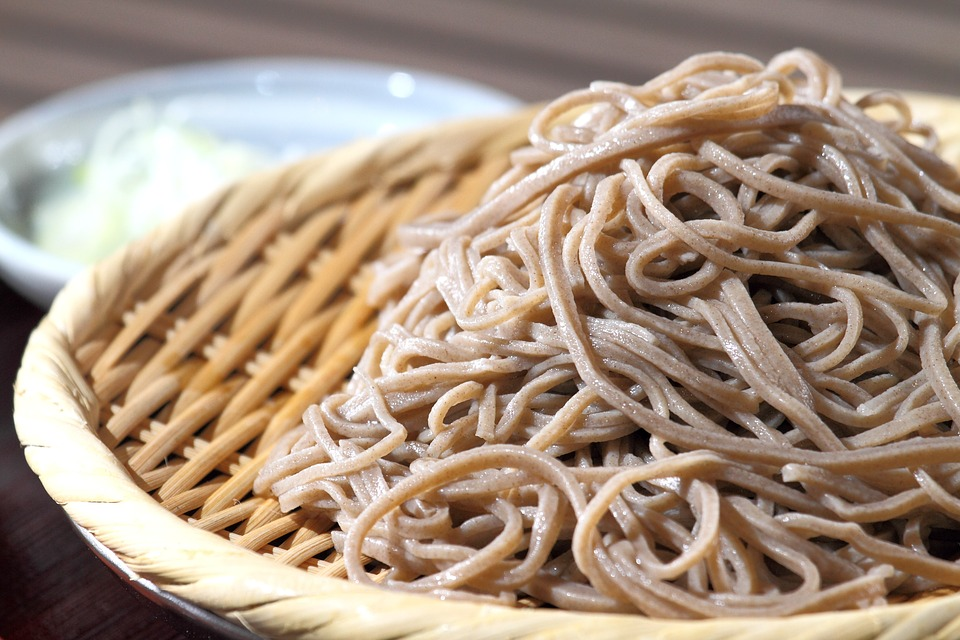Soba: (271, 53, 960, 601)
